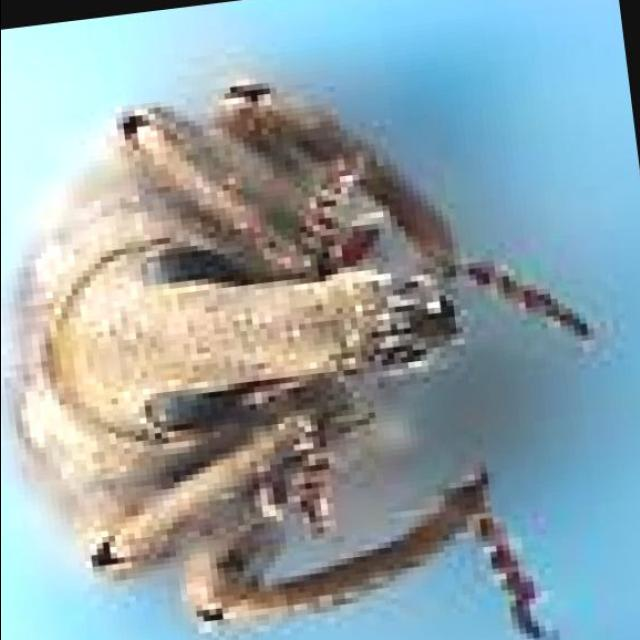ricebug: (6, 84, 589, 640)
